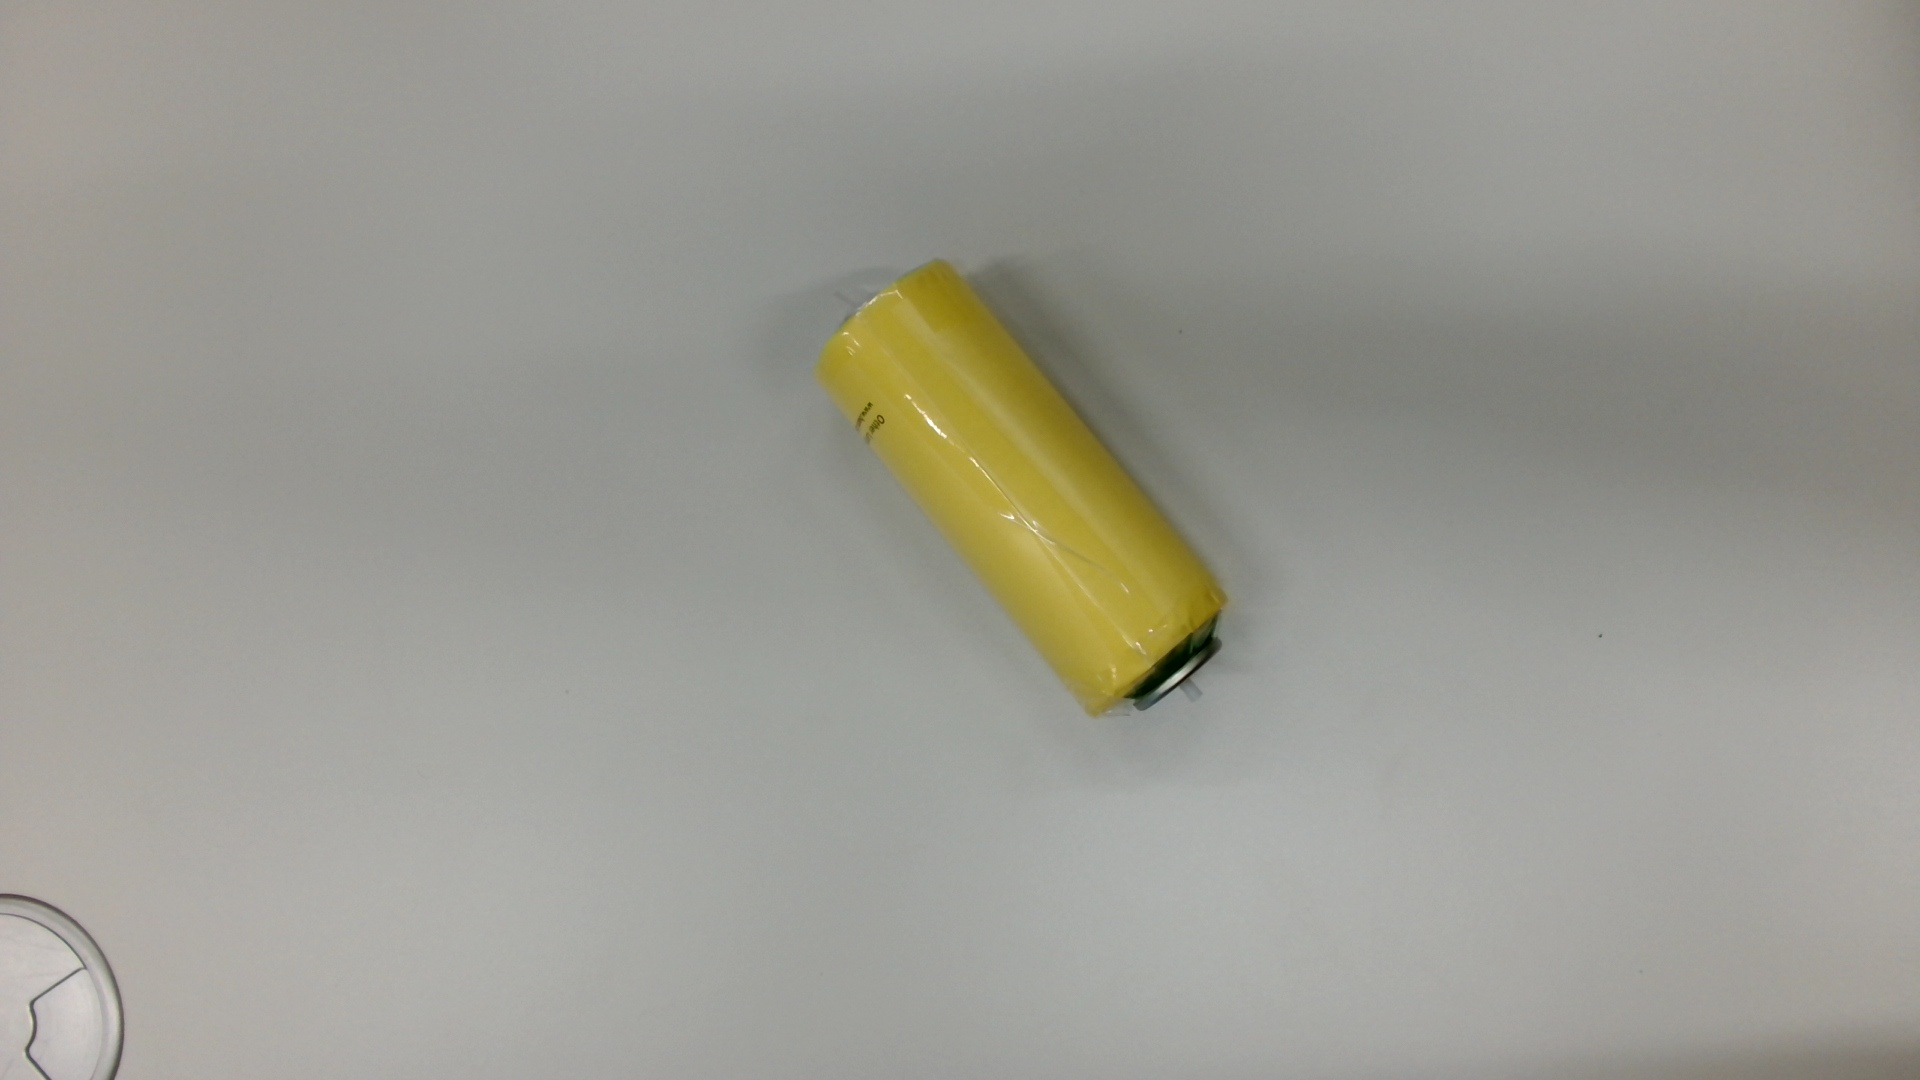Cylinder: (802, 244, 1241, 742)
